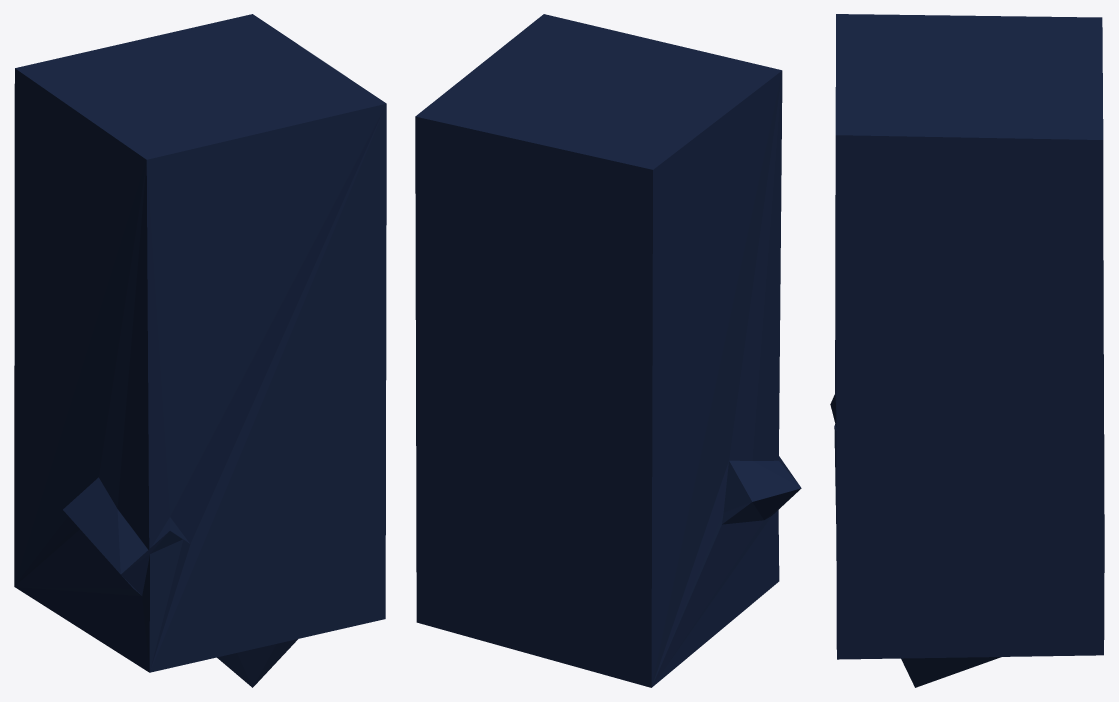
3 views of the same model, side by side, from view 1: azimuth 30°, elevation 25°; view 2: azimuth 150°, elevation 25°; view 3: azimuth 270°, elevation 25° (orthographic). The views are drawn at different scales.
Parts seen in each view (by area): view 1: 906_Cube.3656; view 2: 906_Cube.3656; view 3: 906_Cube.3656.
Boxes of the visible parts, x1,y1,x2,y2 form: 906_Cube.3656: (14, 14, 386, 687); 906_Cube.3656: (415, 14, 801, 687); 906_Cube.3656: (830, 14, 1104, 687).
Bounding box in the file's own units: 6.49 × 13.77 × 5.69.
